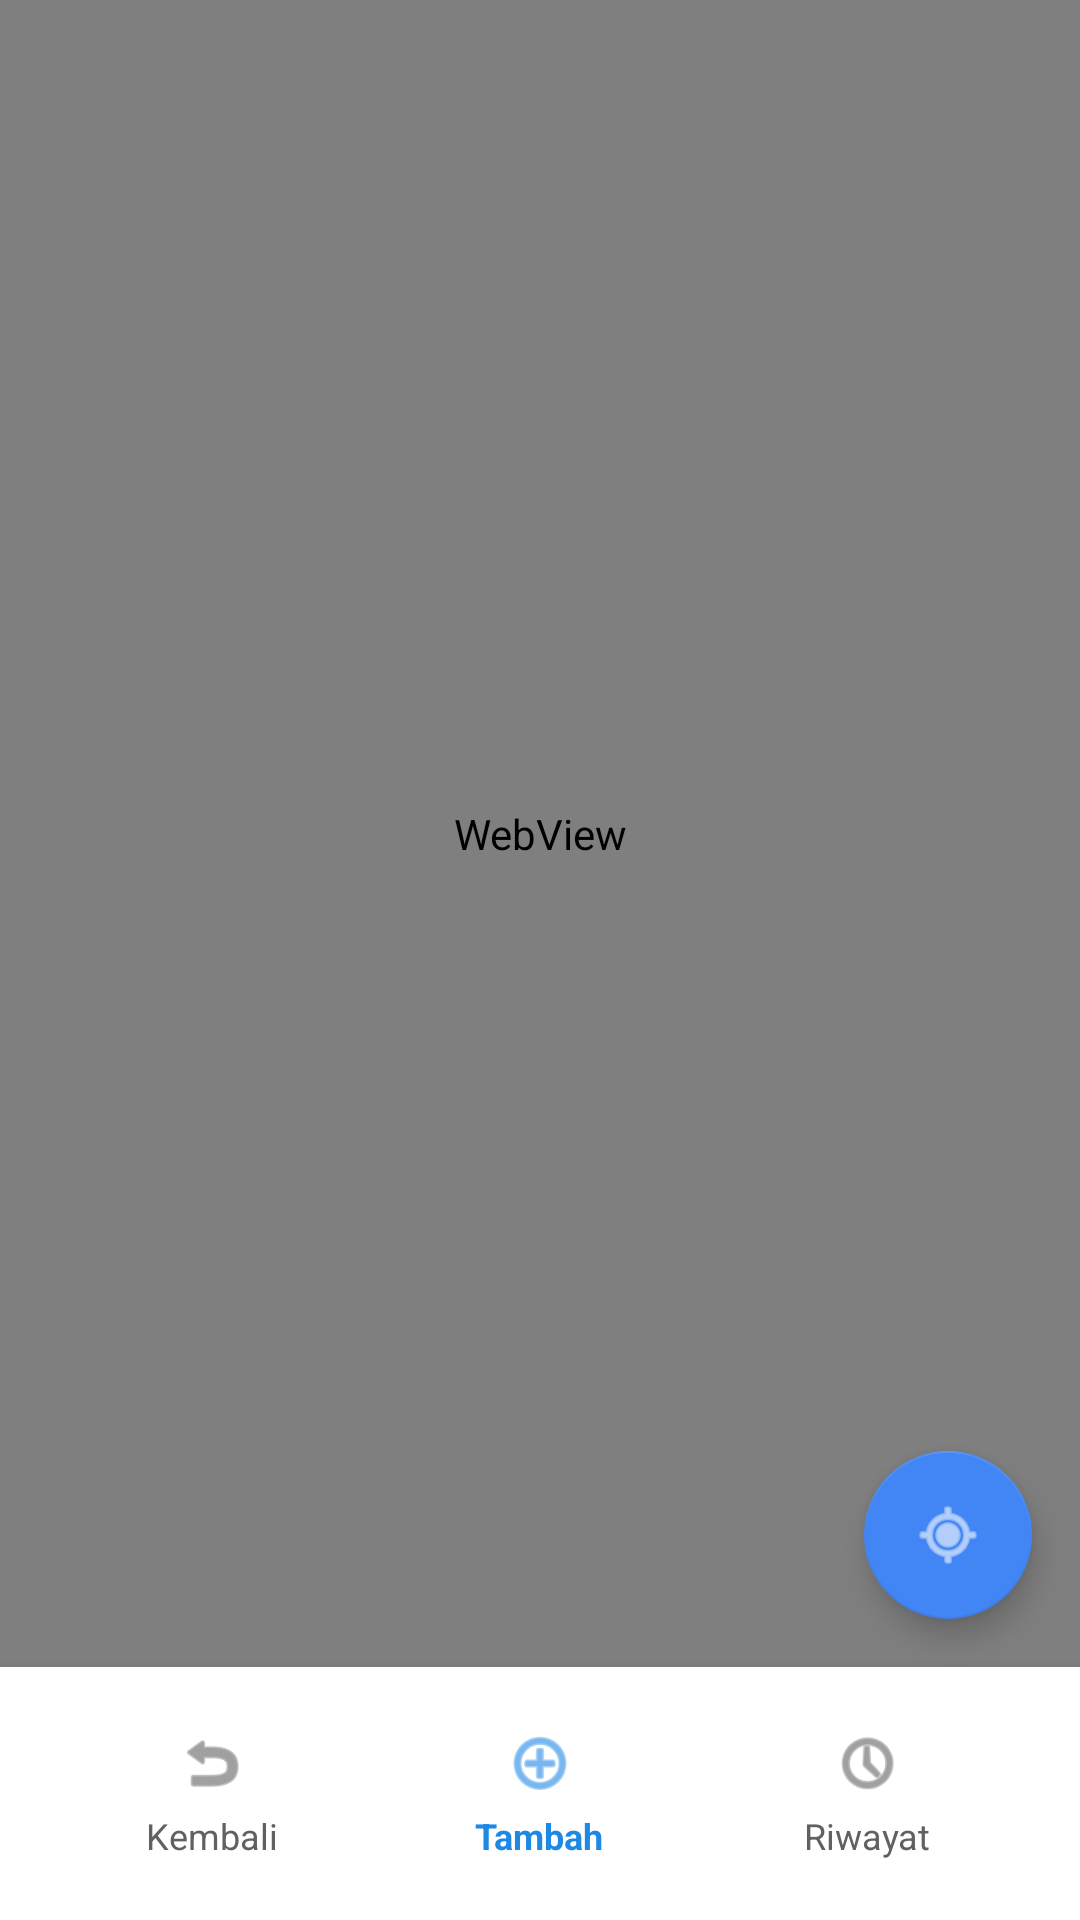

Named icons in this screenshot (1080×1920) and their bounding boxes, (x1, y1, x2, y2):
mylocation: (864, 1451, 1032, 1619)
